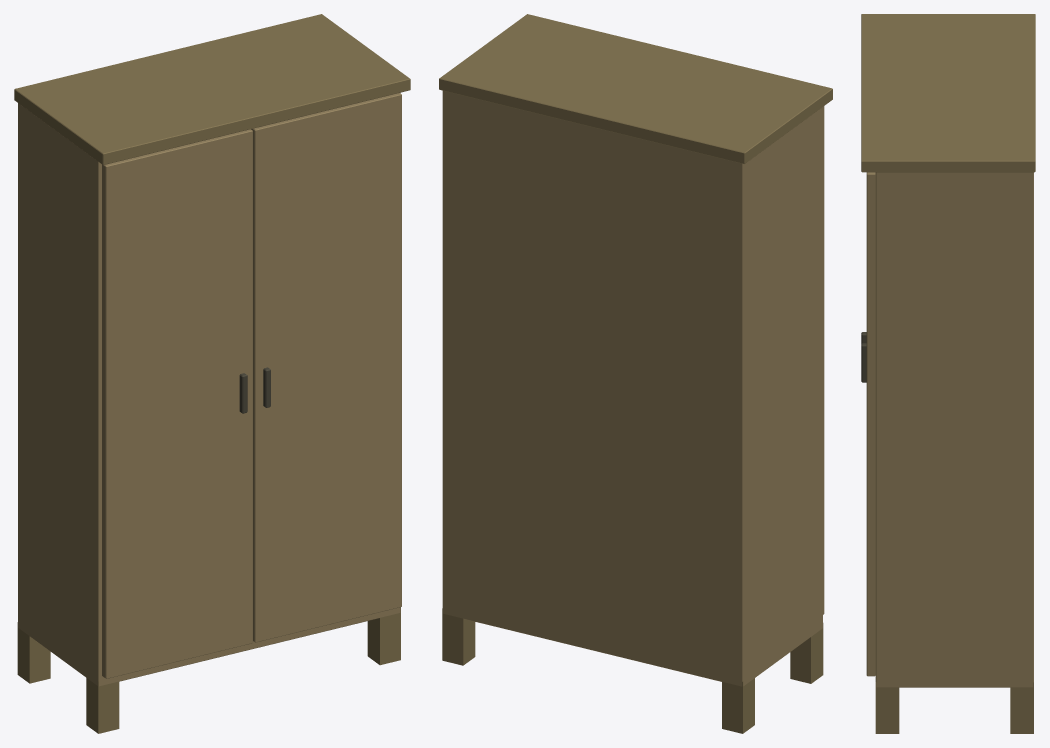
File: wardrobe.glb
The picture shows the model from 3 angles, left to right: view 1: azimuth 30°, elevation 25°; view 2: azimuth 150°, elevation 25°; view 3: azimuth 270°, elevation 25°; orthographic projection. The views are drawn at different scales.
Visible parts, largest first — view 1: Closed cabinet body; view 2: Closed cabinet body; view 3: Closed cabinet body.
Boxes of the visible parts, x1,y1,x2,y2 form: Closed cabinet body: (14, 14, 410, 733); Closed cabinet body: (439, 14, 832, 733); Closed cabinet body: (861, 14, 1035, 733).
Bounding box in the file's own units: 1.1 × 2 × 0.55.
